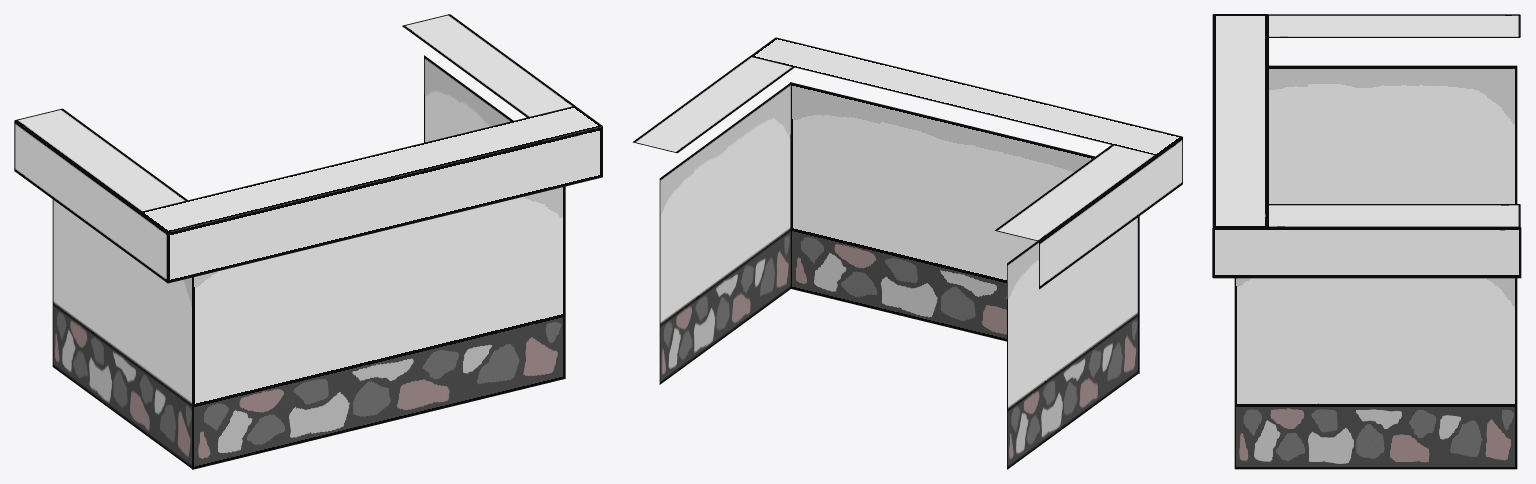
Rendered from Lower Strairwall.gltf.
3 renders of one model, left to right at view 1: azimuth 30°, elevation 25°; view 2: azimuth 150°, elevation 25°; view 3: azimuth 270°, elevation 25°, orthographic. The views are drawn at different scales.
Parts seen in each view (by area): view 1: default; view 2: default; view 3: default.
Part boxes in pixels (box(x1,y1,x2,y2)): default: box(14, 14, 602, 469); default: box(632, 37, 1182, 469); default: box(1212, 14, 1521, 469).
Size of the model in its own units: 36.6 by 23.44 by 22.34.
1 material, 1 textured.
